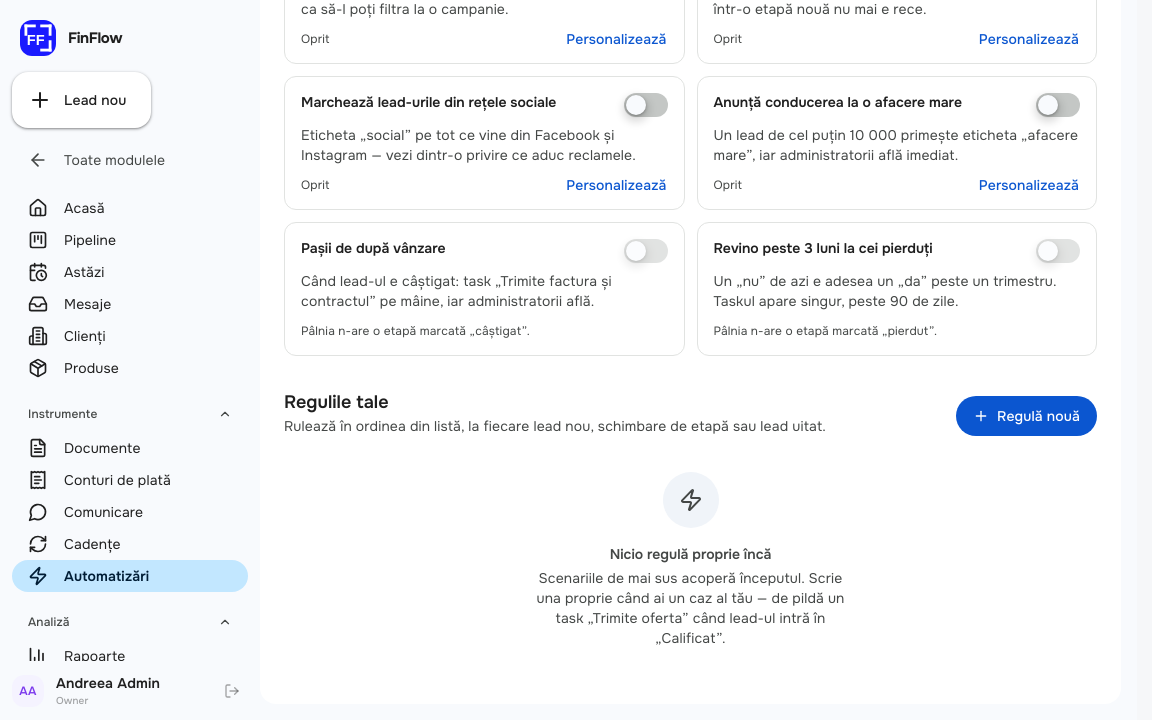
scenariile gata făcute › condiția pe sursă se alege din listă cu nume, nu se tastează cheia din bază
(page scrolled)
Click the button "Regulă nouă": point(1026, 416) [956,396,1097,436]
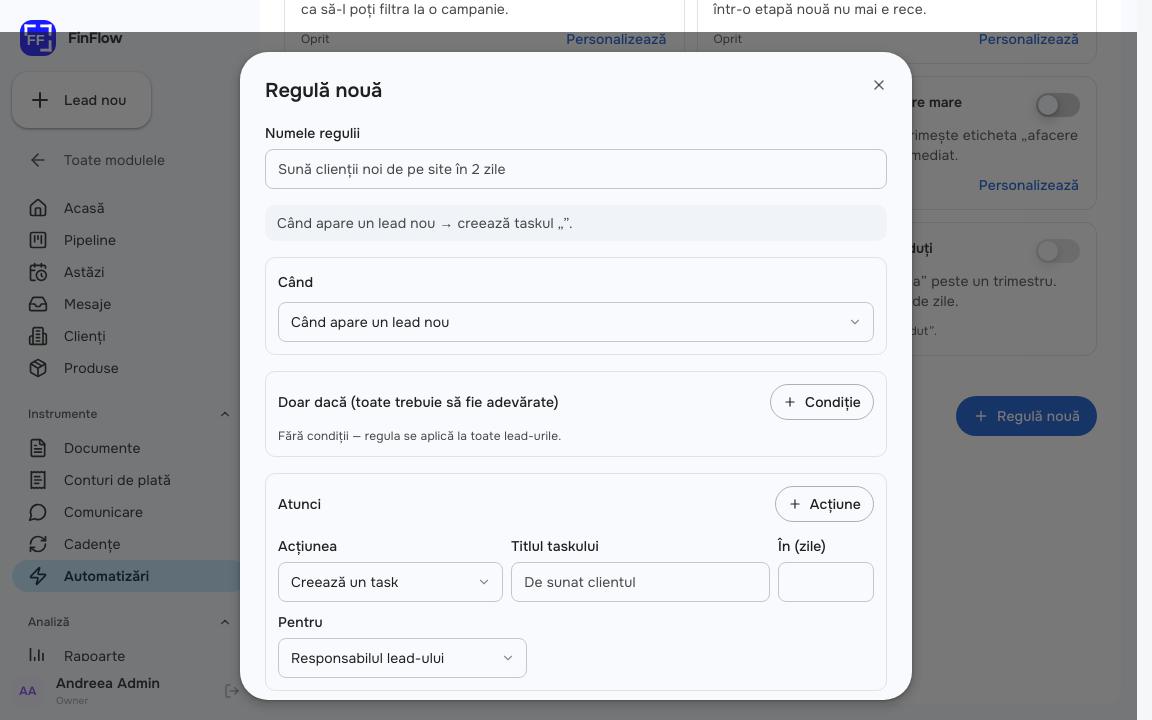
Click the button "Condiție": point(822, 402) [770,384,874,420]
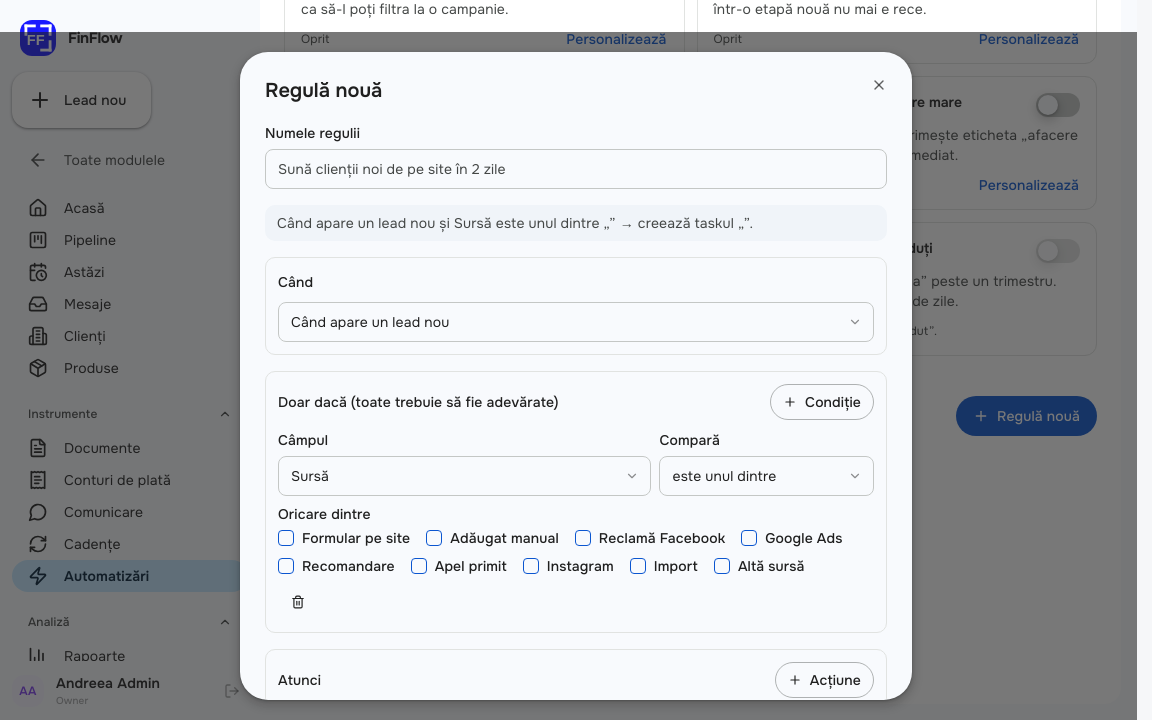
Check: the checkbox labelled "Reclamă Facebook" is shown, box [575,528,725,548]
Click the checkbox labelled "Instagram": point(568, 566) [523,556,614,576]
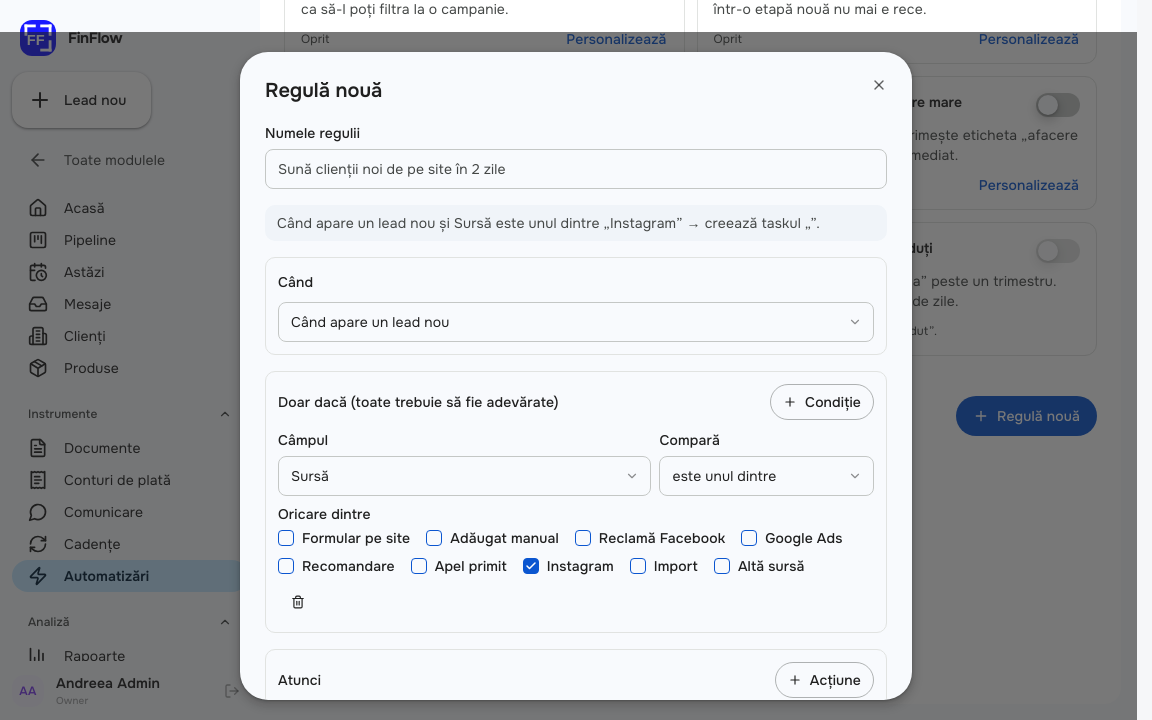
Check: the text "Sursă este unul dintre „Instagram”" is shown, box [277,214,820,232]
